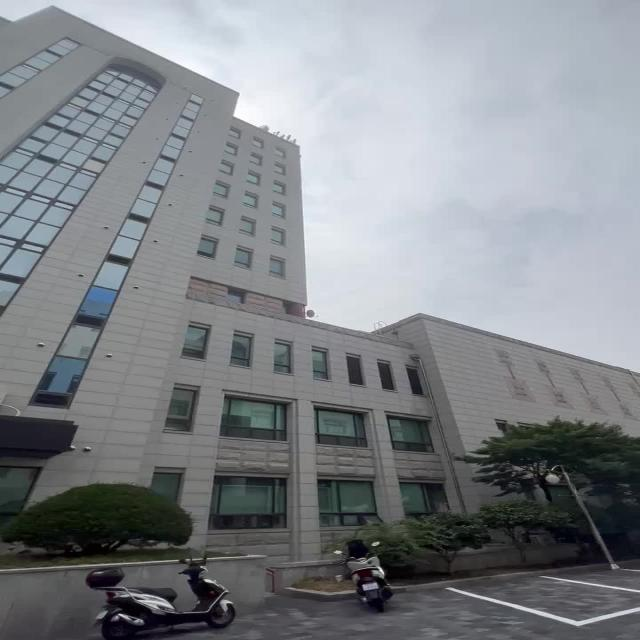building: (9, 22, 411, 482)
